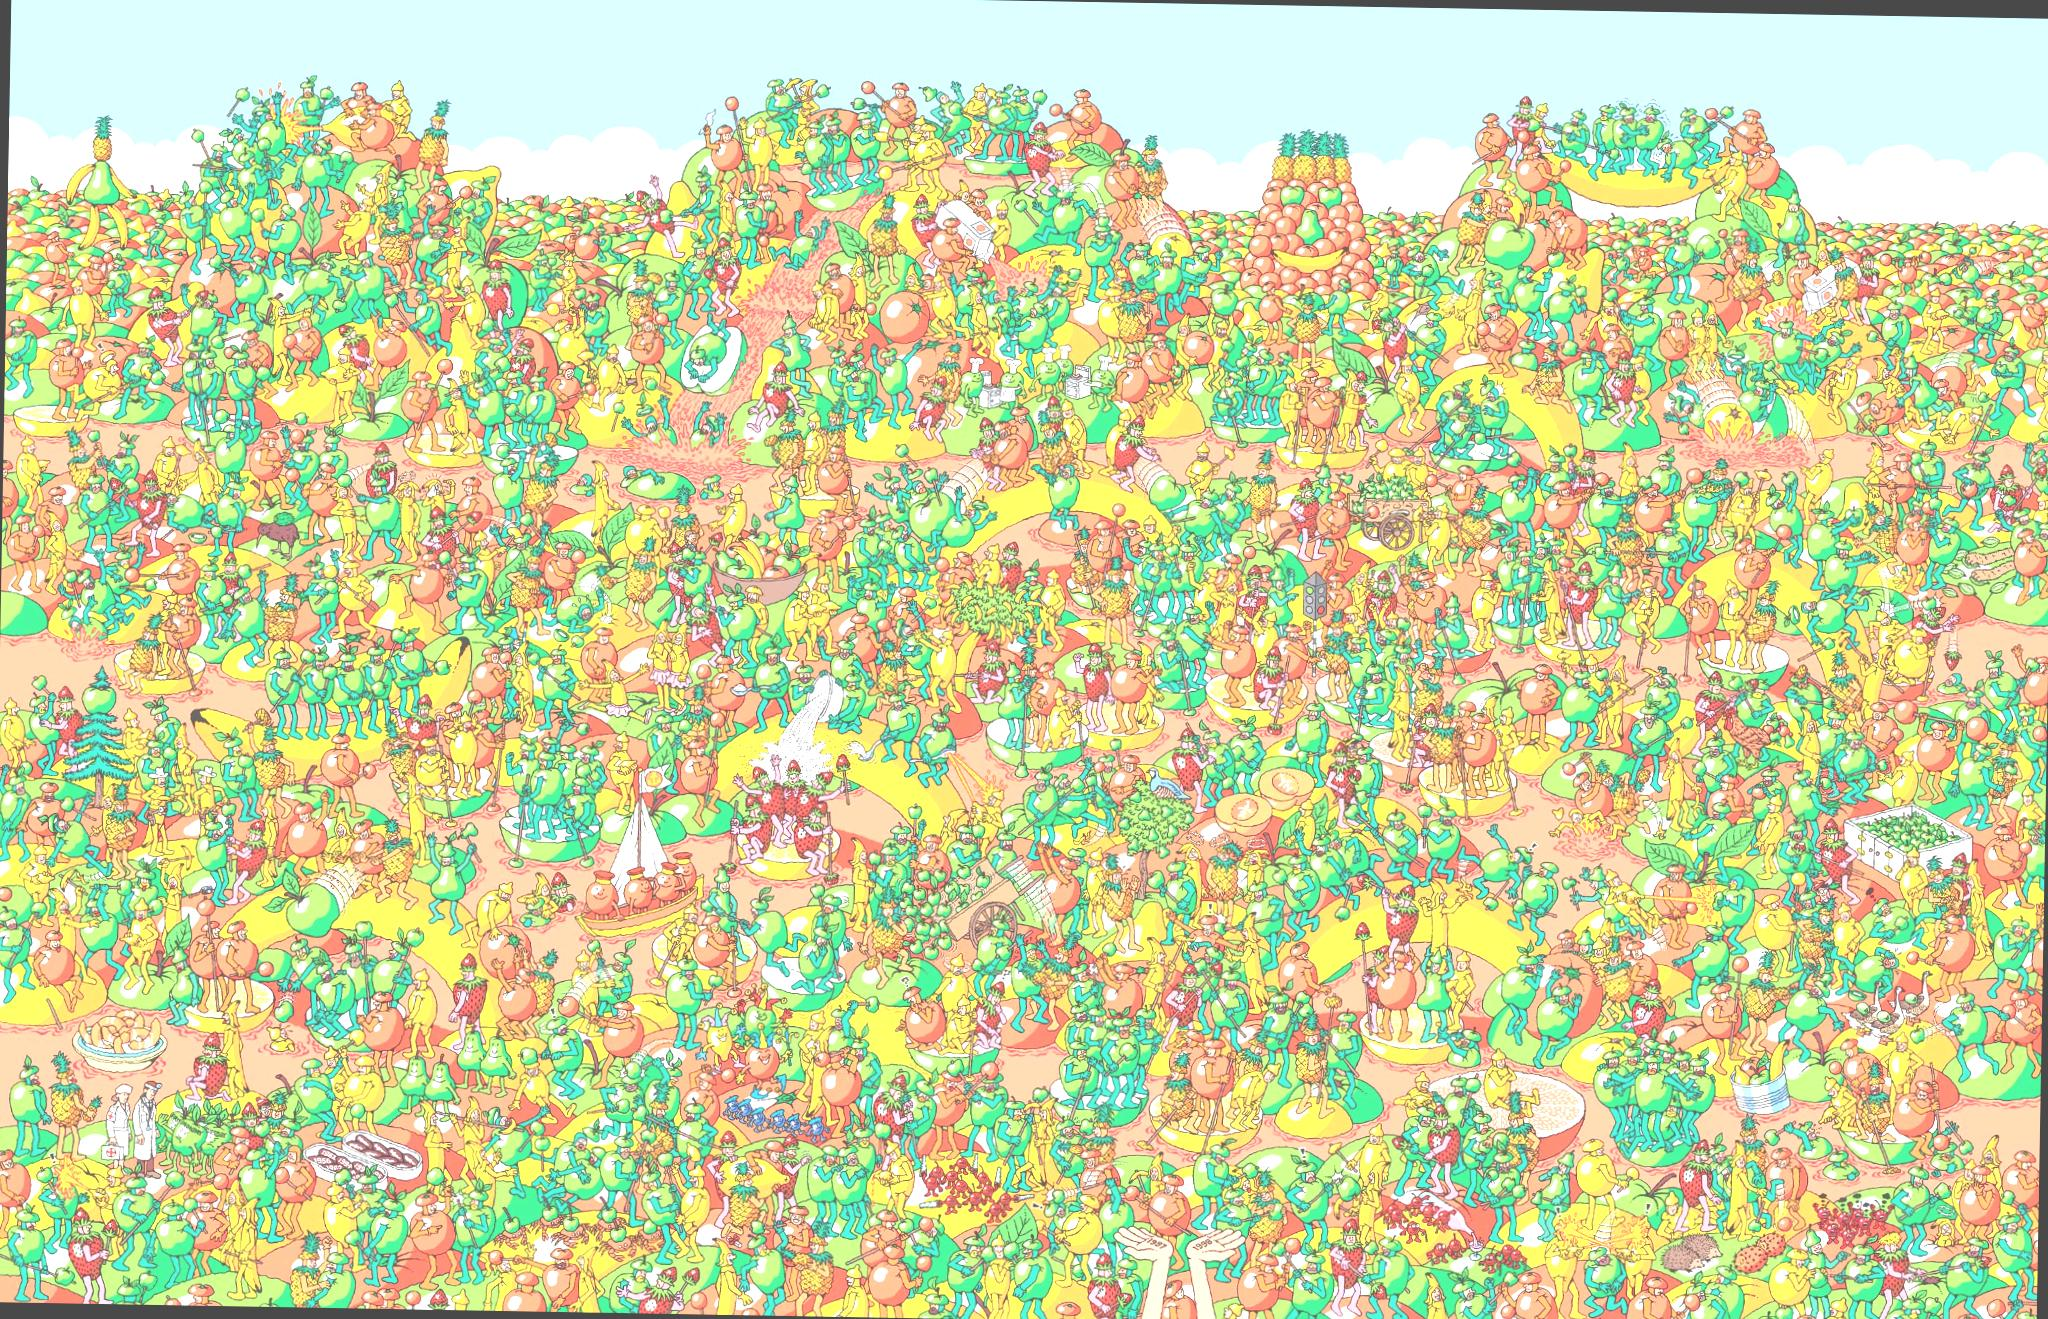waldo: (1812, 882, 1827, 898)
